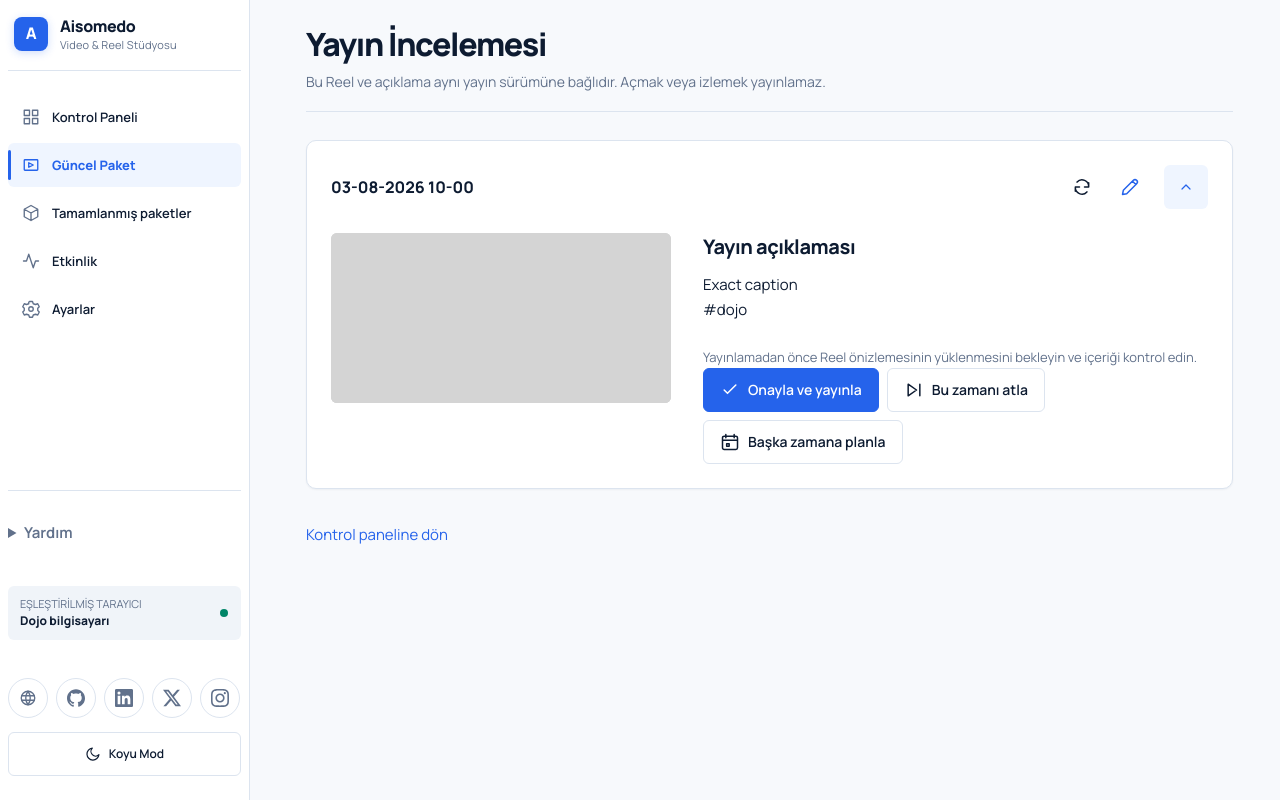
it: keeps an opened review mounted through publication transitions
Expected: the text "Exact caption #dojo" is shown, [703,274,798,320]
Expected: the button "Bu zamanı atla" is enabled, [887,368,1045,412]
Click the button "Onayla ve yayınla". click: (791, 390)
box: [703,368,879,412]
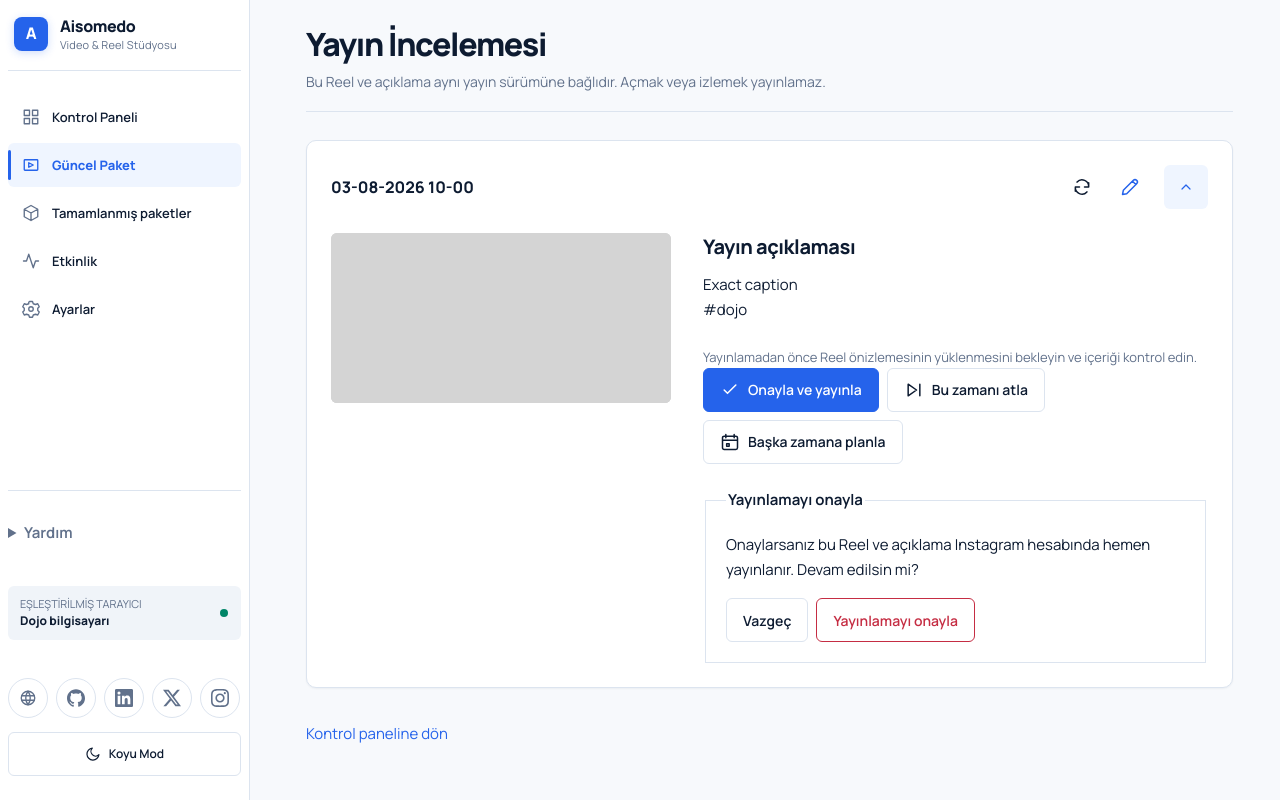
Click the button "Yayınlamayı onayla". click: (896, 620)
box: [816,598,975,642]
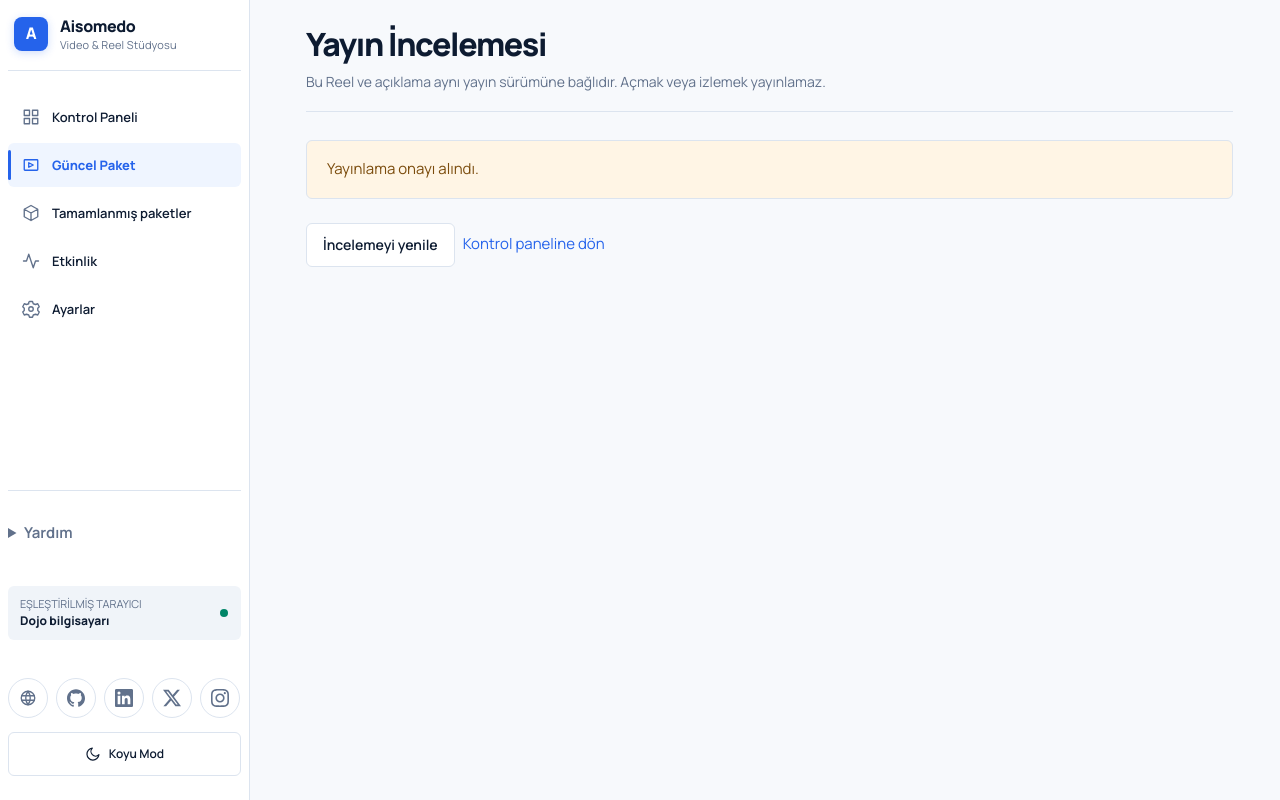
Expected: the text "Yayınlama onayı alındı." is shown, [327,157,479,182]
